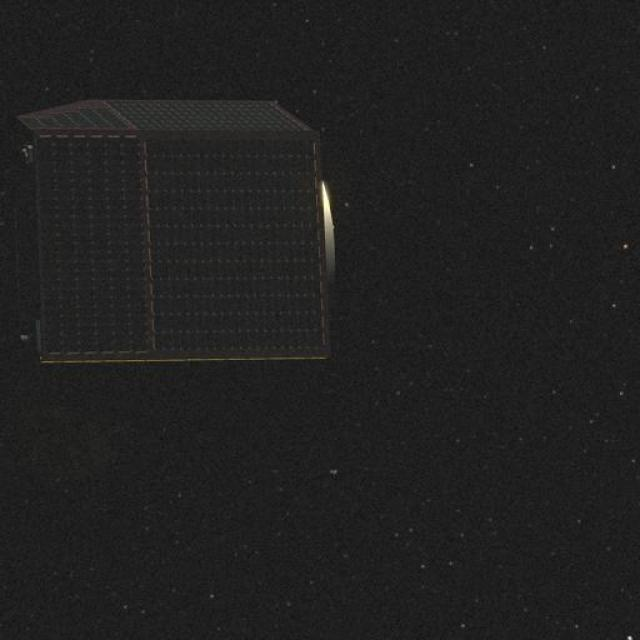cheops: (0, 99, 349, 384)
